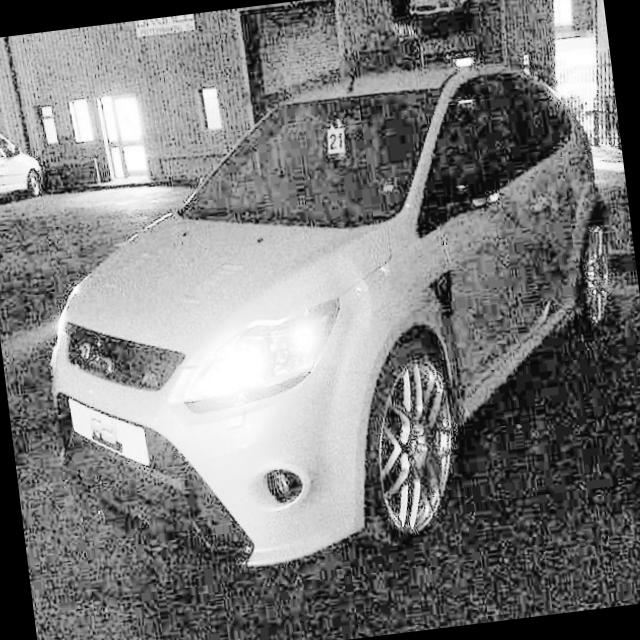Car: (30, 40, 640, 614), (0, 81, 61, 268)
